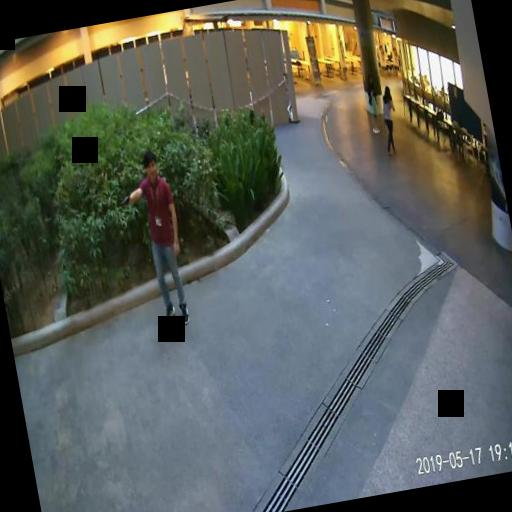Handgun: (117, 191, 131, 207)
